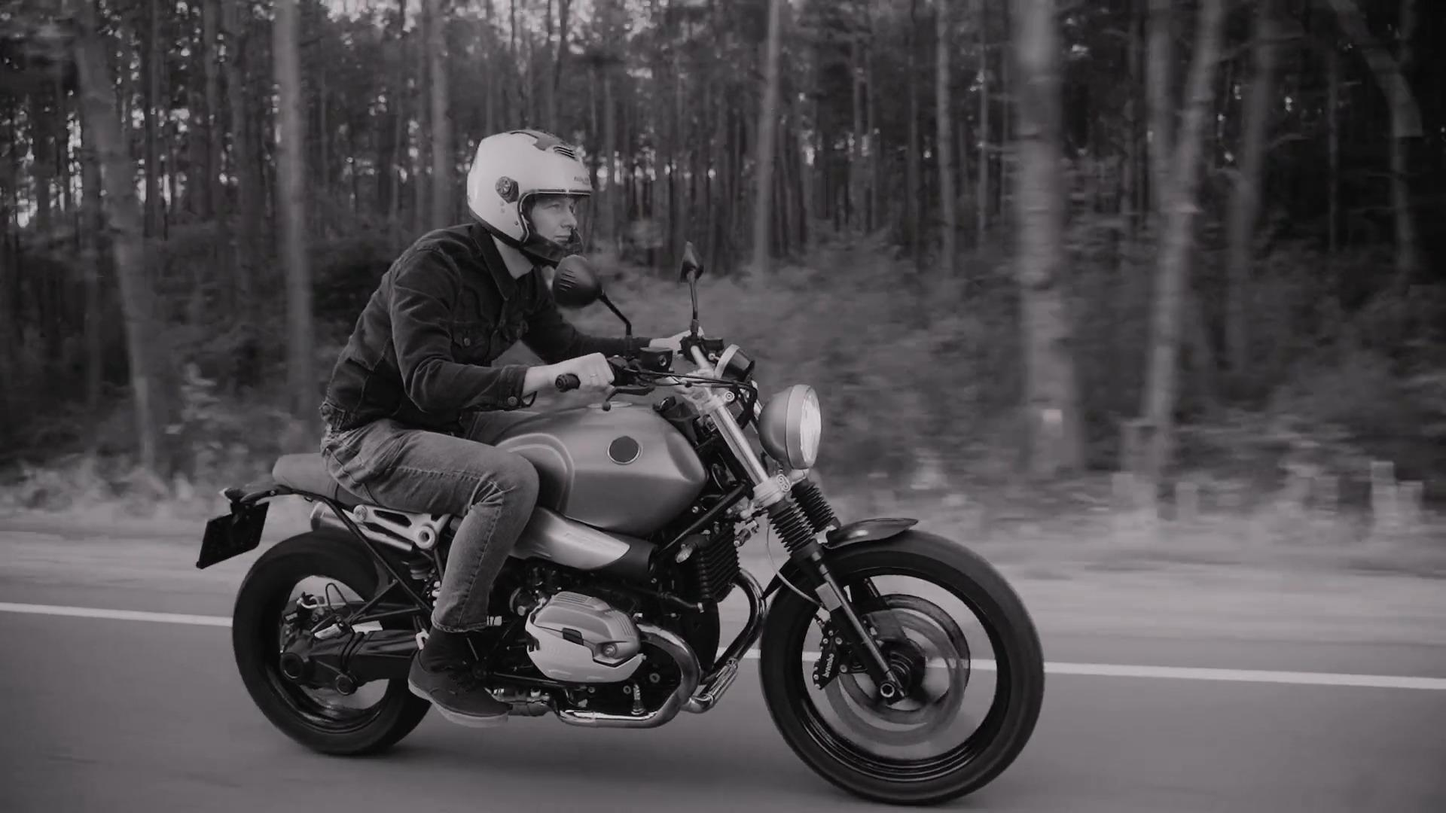driver: (194, 125, 1044, 807)
helmet: (467, 129, 593, 272)
